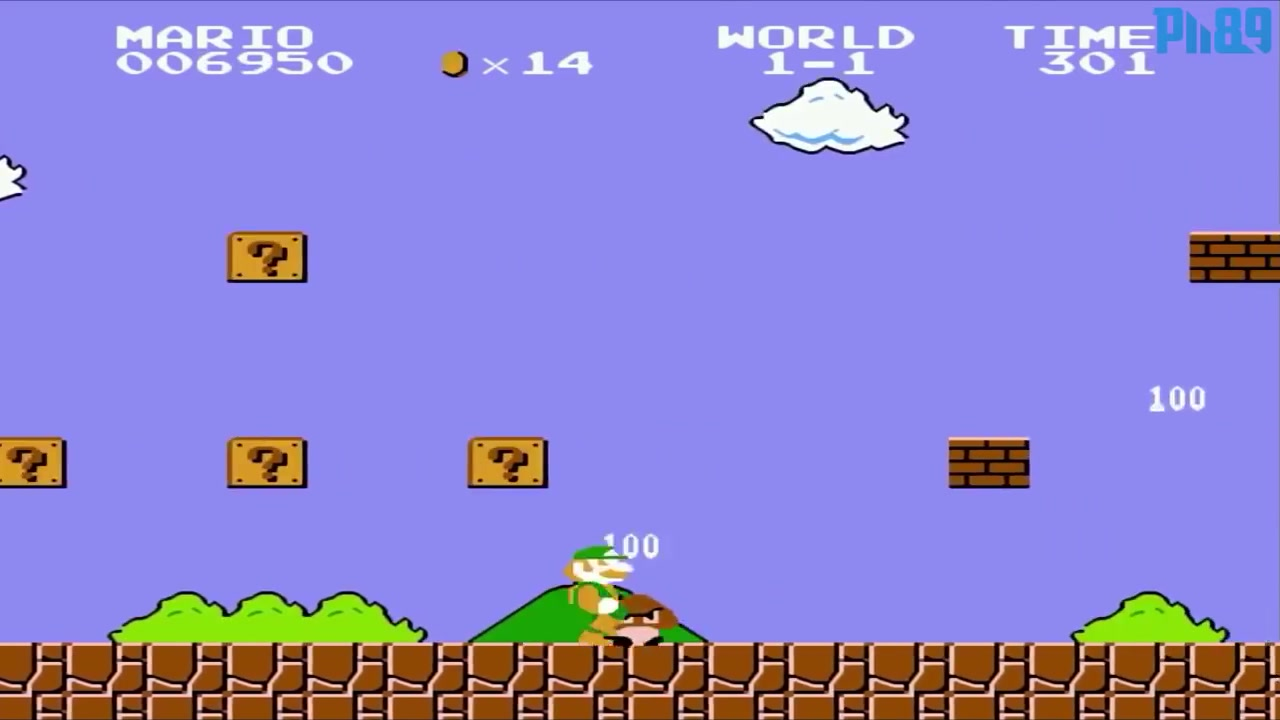mario: (552, 536, 643, 645)
